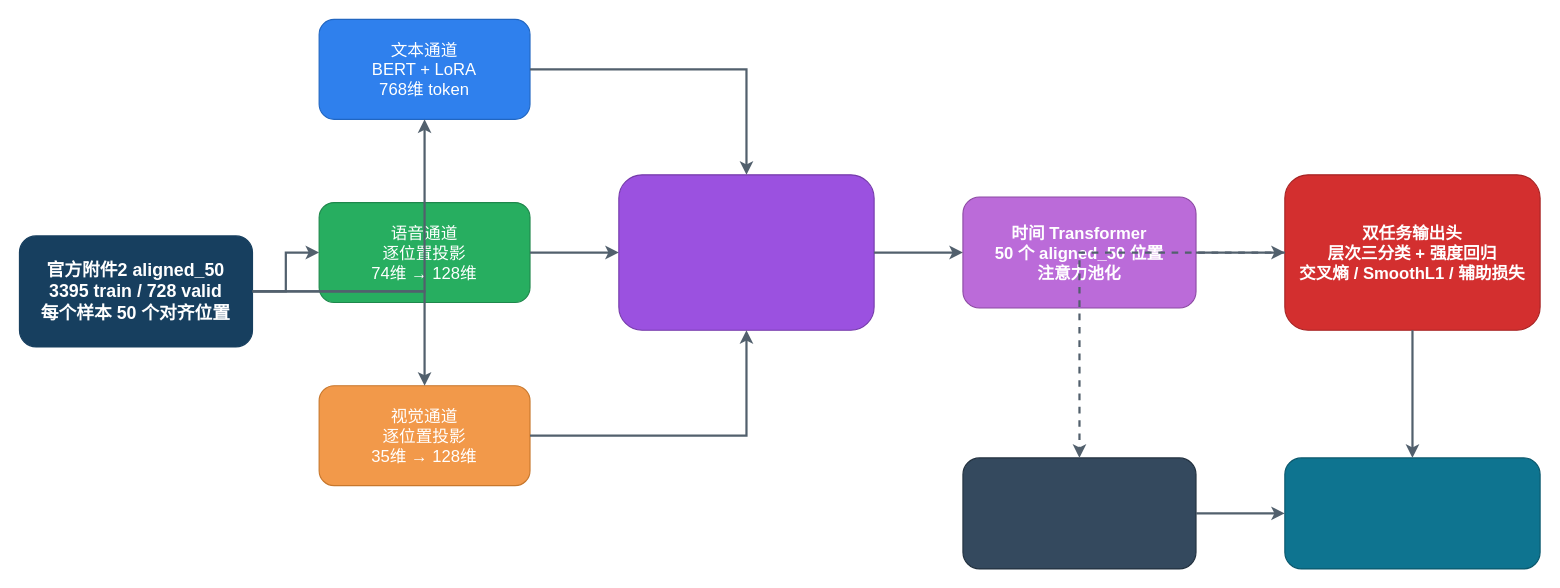
The diagram is 1560 pixels wide and 588 high, and some of its shapes have lost their labels. The centre of each missing label's shape, as x and y in pixels:
"可解释性层 8 子集 Shapley 局部窗口遮挡" goes at point (1079, 513).
"输出 类别概率 / 强度 模态贡献 / 证据定位 / 审计" goes at point (1412, 513).
"逐位置跨模态 Transformer 文本 / 语音 / 视觉 token 质量特征与缺失掩码" goes at point (746, 252).
